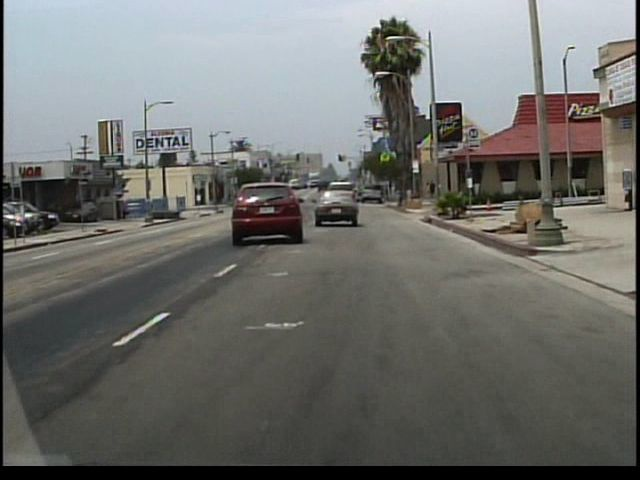person: (429, 179, 437, 199)
